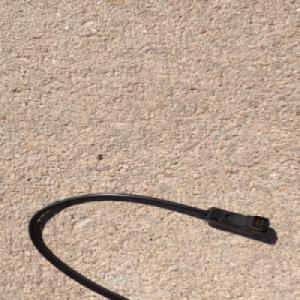Wire: (27, 191, 272, 300)
